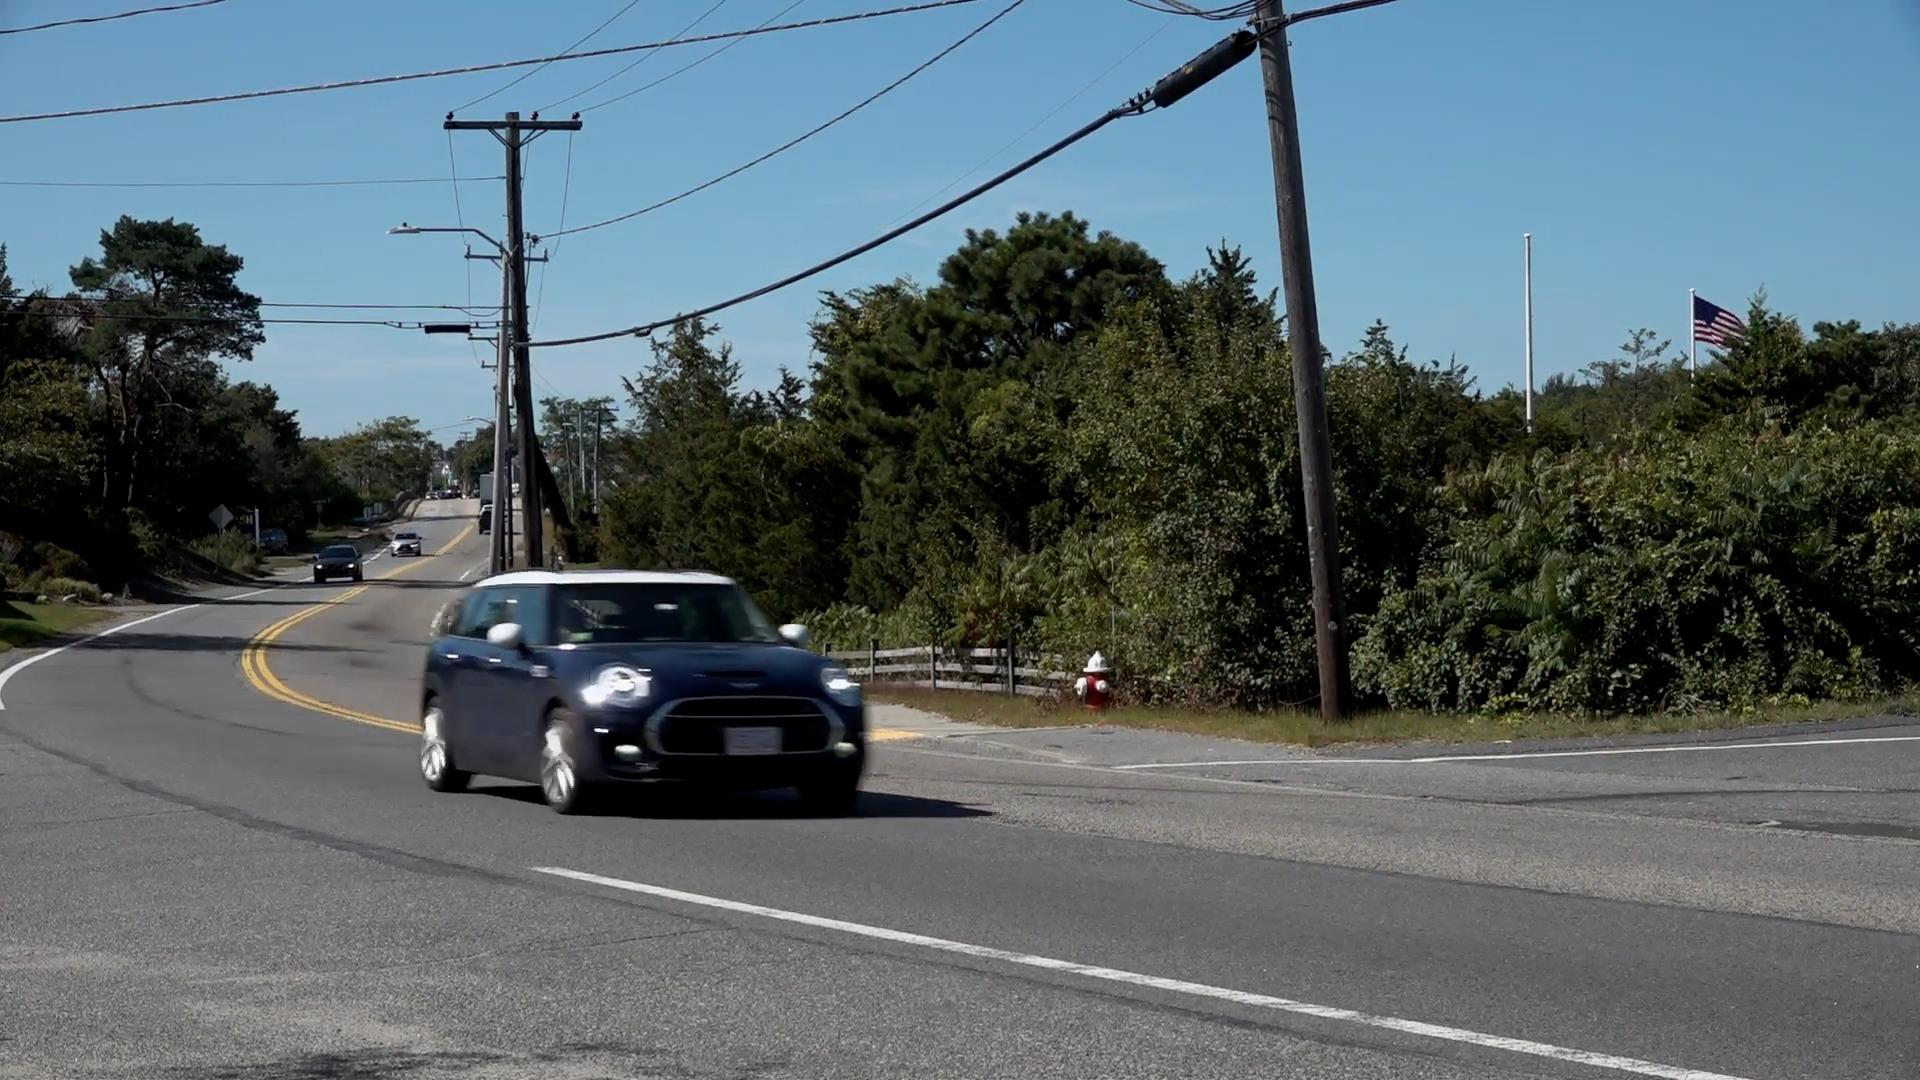suv: (419, 571, 871, 810)
